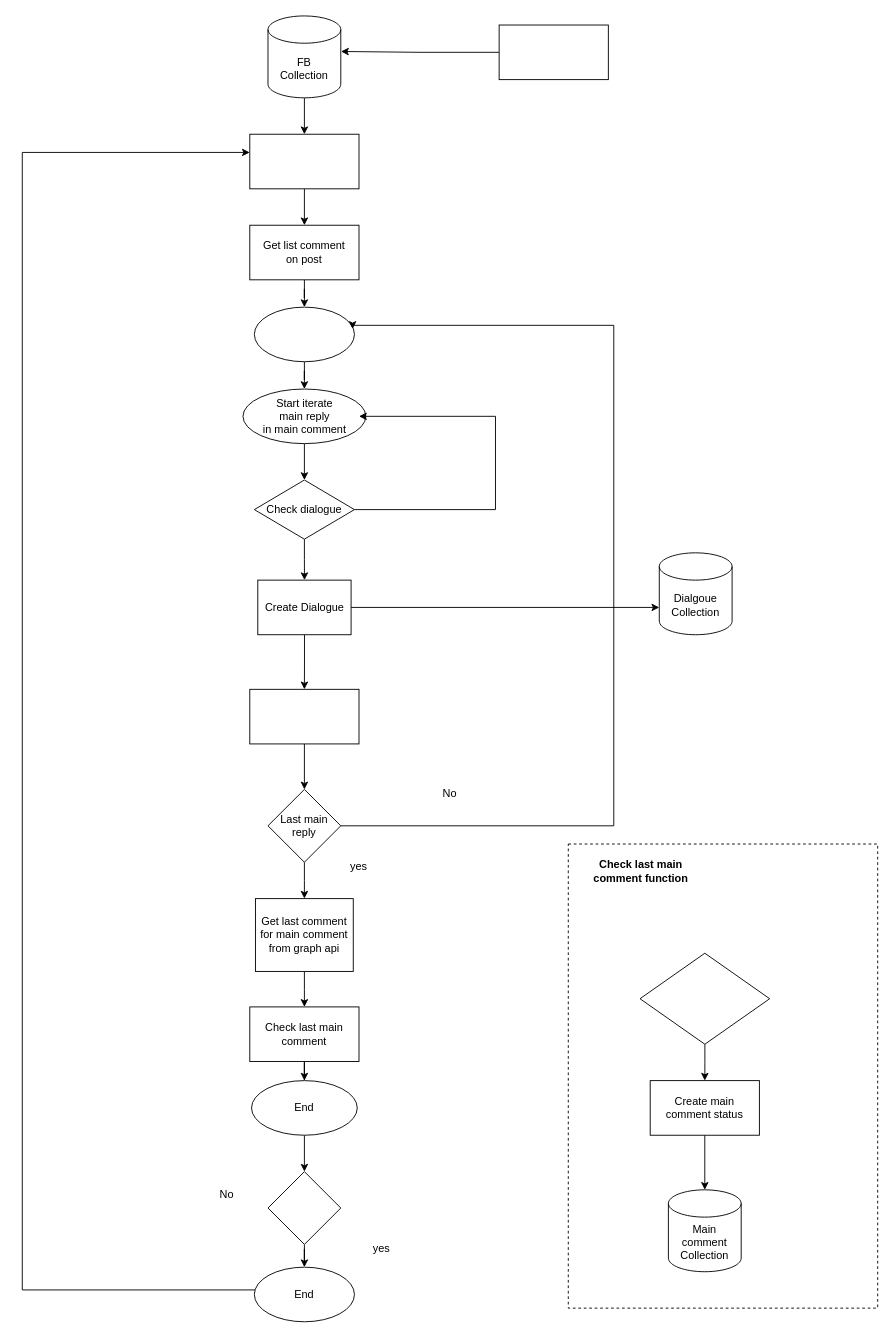
Image size: 894x1338. Some labels were removed from this diagram. The shapes that lost their labels are listed below. From the top down, each one's centre as x and y in pixels, then its label:
At point (553, 52): "Crawl data facebook service".
At point (304, 161): "Get post in facebook".
At point (303, 334): "Start iterate main comment".
At point (304, 716): "Append last comment in dialogue to list last comment".
At point (704, 998): "Last comment from graph api in list last comment".
At point (304, 1207): "Last main comment".
